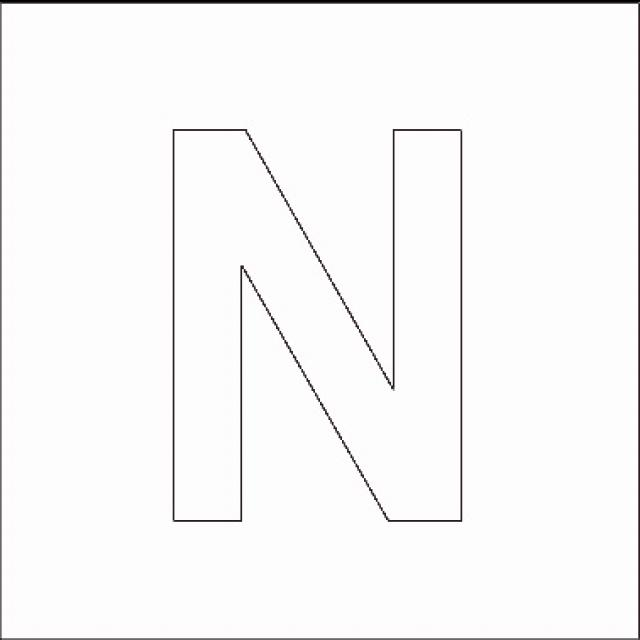N: (104, 90, 528, 598)
